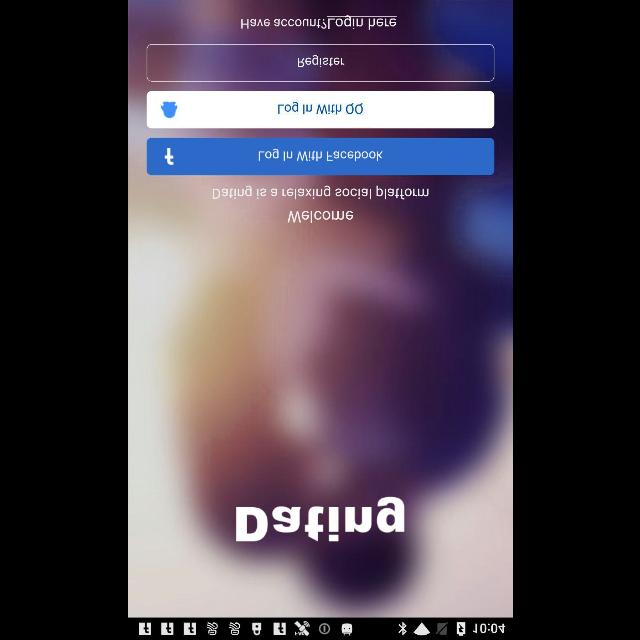backgroundimage: (128, 0, 512, 618)
text: (234, 496, 404, 542), (212, 184, 428, 200), (240, 15, 396, 30), (286, 210, 352, 223)
textbutton: (146, 138, 494, 176), (146, 91, 494, 129), (146, 44, 494, 82)
uppertaskbar: (128, 617, 512, 639)
